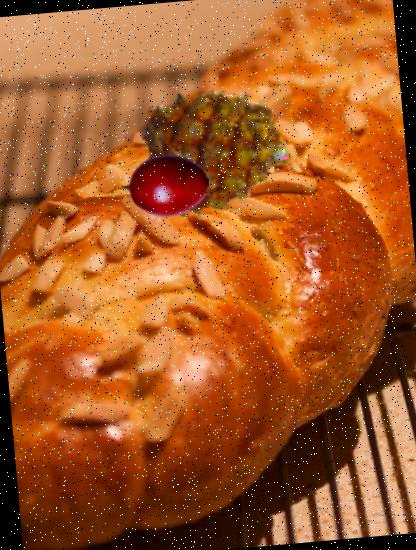Pineapple: (137, 73, 291, 227)
Tamarillo: (116, 138, 212, 234)
